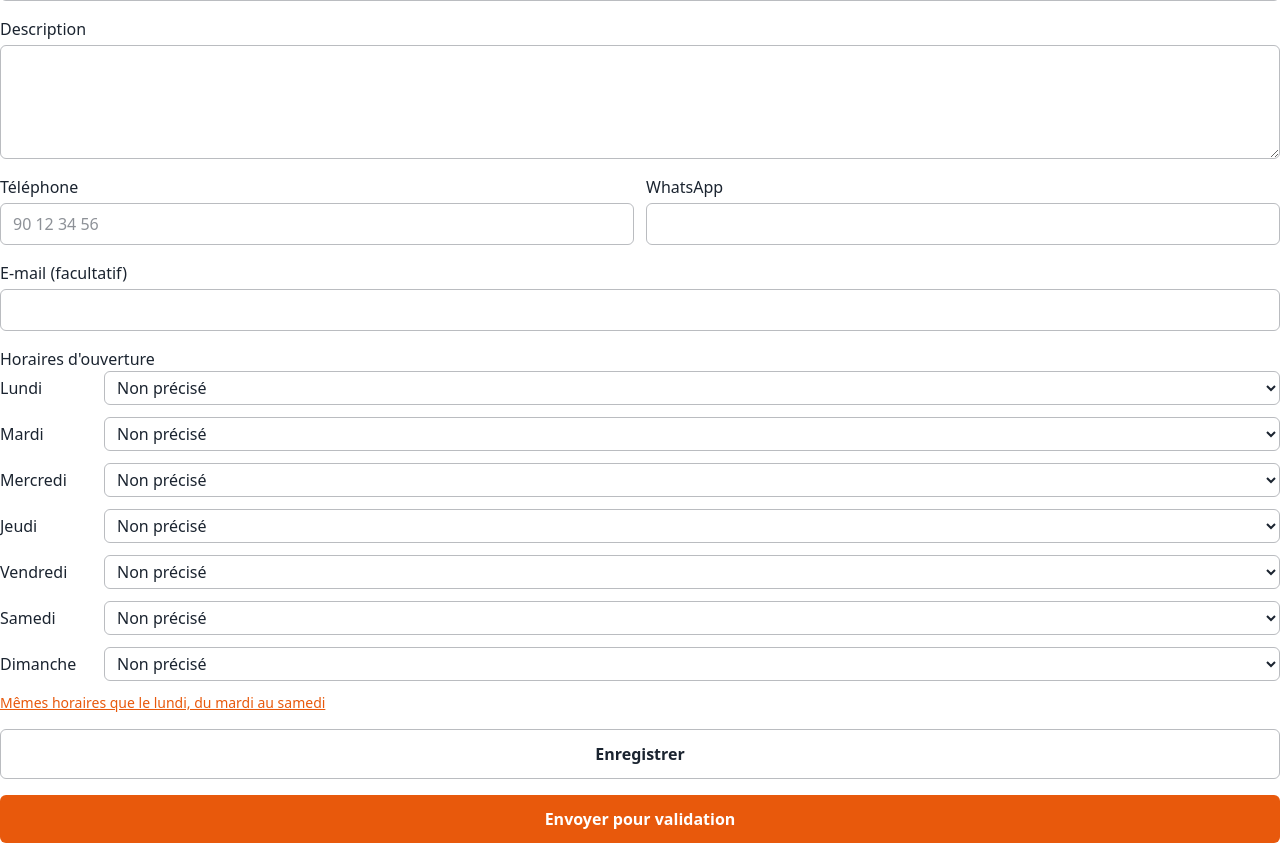
Test: DetailsForm › does not send a listing that could not be saved
(page scrolled)
Click the button "Envoyer pour validation".
click(640, 819)  # box [0,795,1279,843]
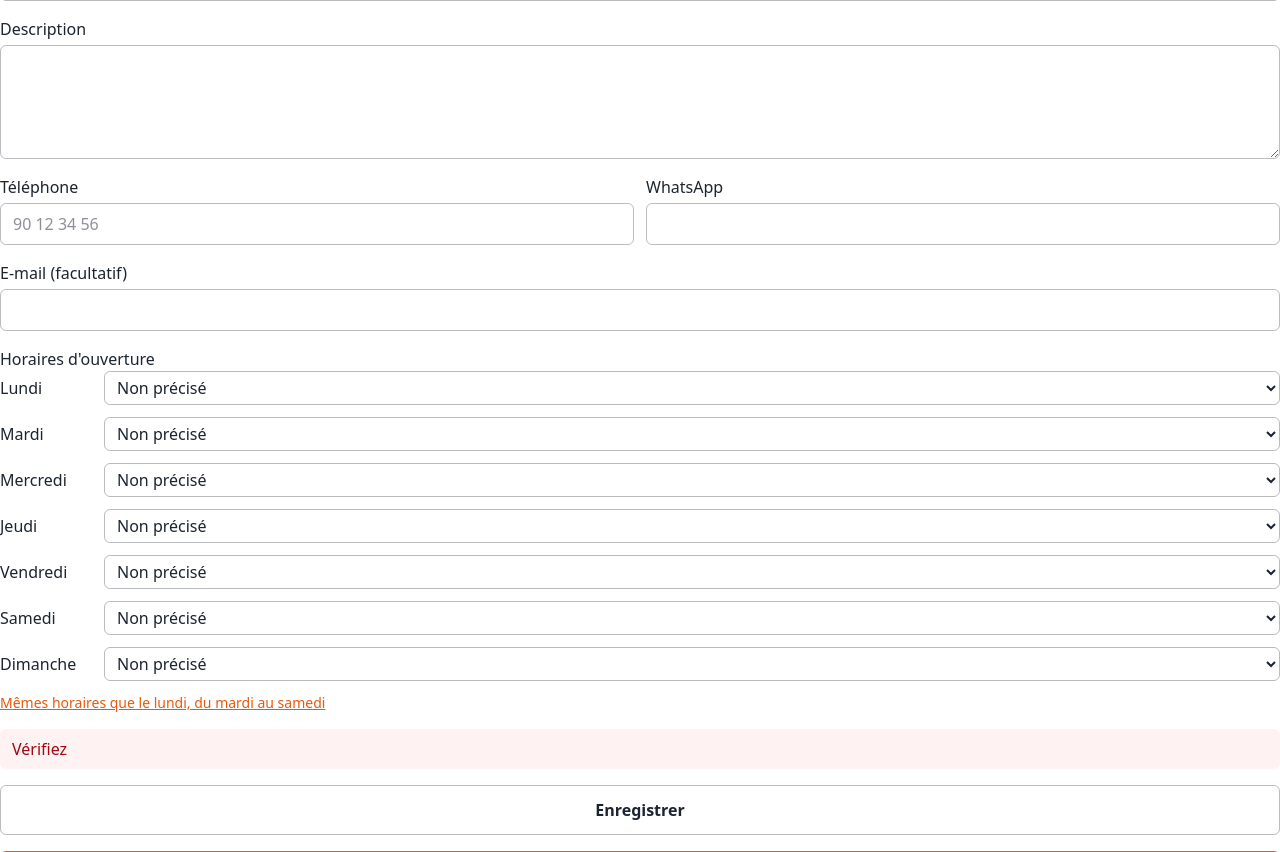
Expected: the message "Vérifiez" is shown, [0,729,1279,769]
